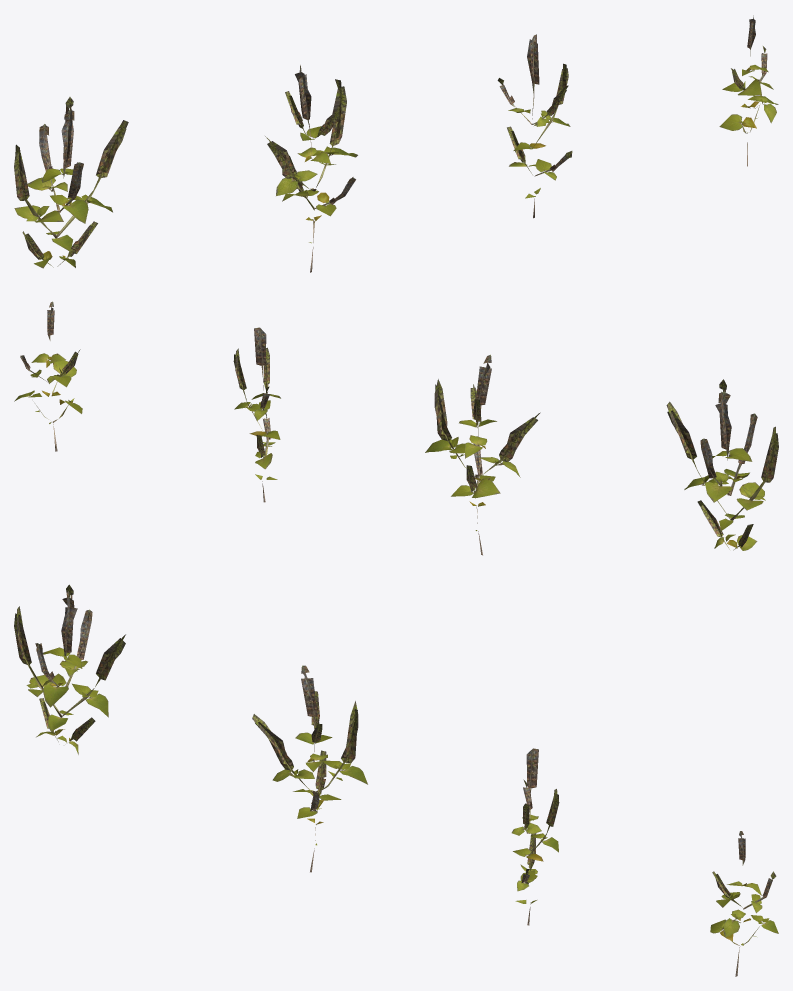
File: shrub_03.glb
The picture shows the model from 3 angles, top to bottom: view 1: azimuth 30°, elevation 25°; view 2: azimuth 150°, elevation 25°; view 3: azimuth 330°, elevation 25°; orthographic projection. The views are drawn at different scales.
Parts seen in each view (by area): view 1: shrub_03_a; view 2: shrub_03_a; view 3: shrub_03_a.
Part boxes in pixels (bbox=[...]): shrub_03_a: bbox=[14, 15, 778, 272]; shrub_03_a: bbox=[14, 301, 778, 555]; shrub_03_a: bbox=[14, 584, 778, 976].
Size of the model in its own units: 1.37 by 0.4018 by 0.1512.
1 material, 1 textured.
